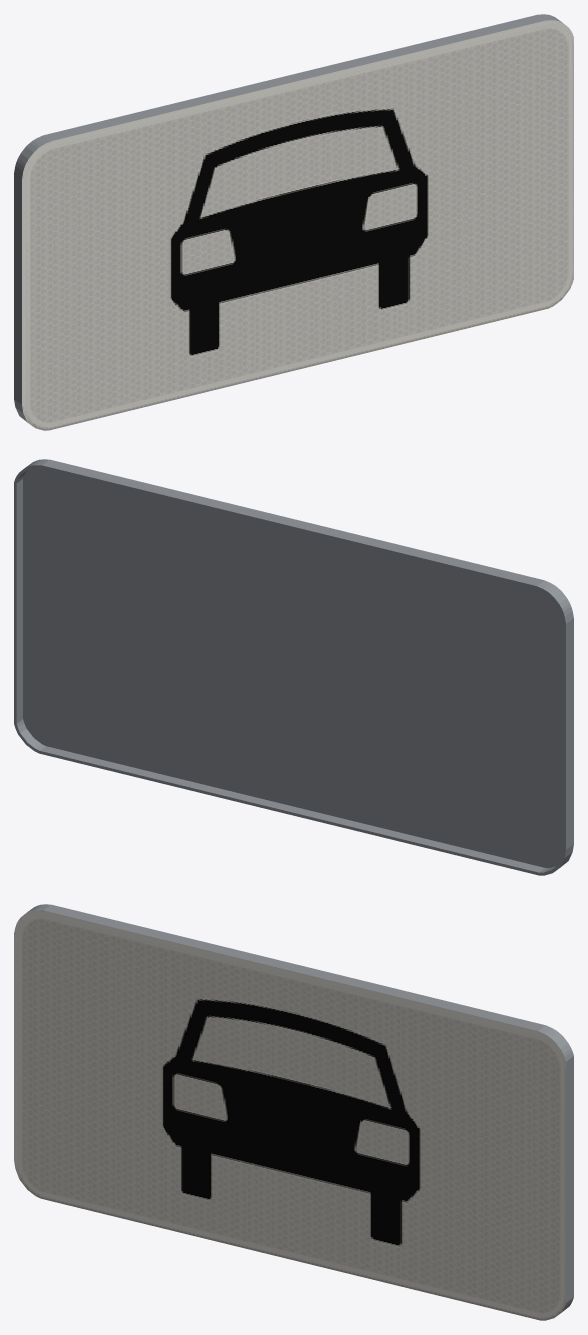
3 renders of one model, top to bottom at view 1: azimuth 30°, elevation 25°; view 2: azimuth 150°, elevation 25°; view 3: azimuth 330°, elevation 25°, orthographic.
Visible parts, largest first — view 1: cat_092fd10a8c266088; view 2: cat_092fd10a8c266088; view 3: cat_092fd10a8c266088.
Part boxes in pixels (bbox=[...]): cat_092fd10a8c266088: bbox=[14, 14, 573, 430]; cat_092fd10a8c266088: bbox=[14, 459, 573, 875]; cat_092fd10a8c266088: bbox=[14, 904, 573, 1320].
Size of the model in its own units: 0.6 by 0.015 by 0.3.
Materials: 2 (1 with a texture image).
